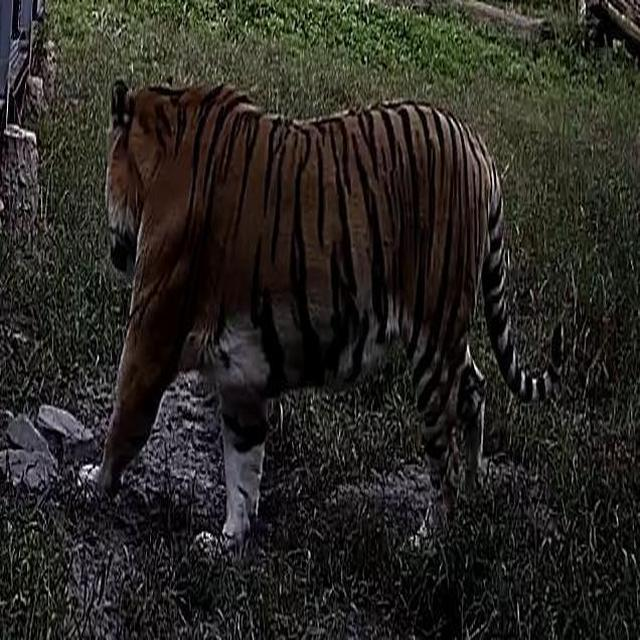tiger: (69, 63, 574, 576)
